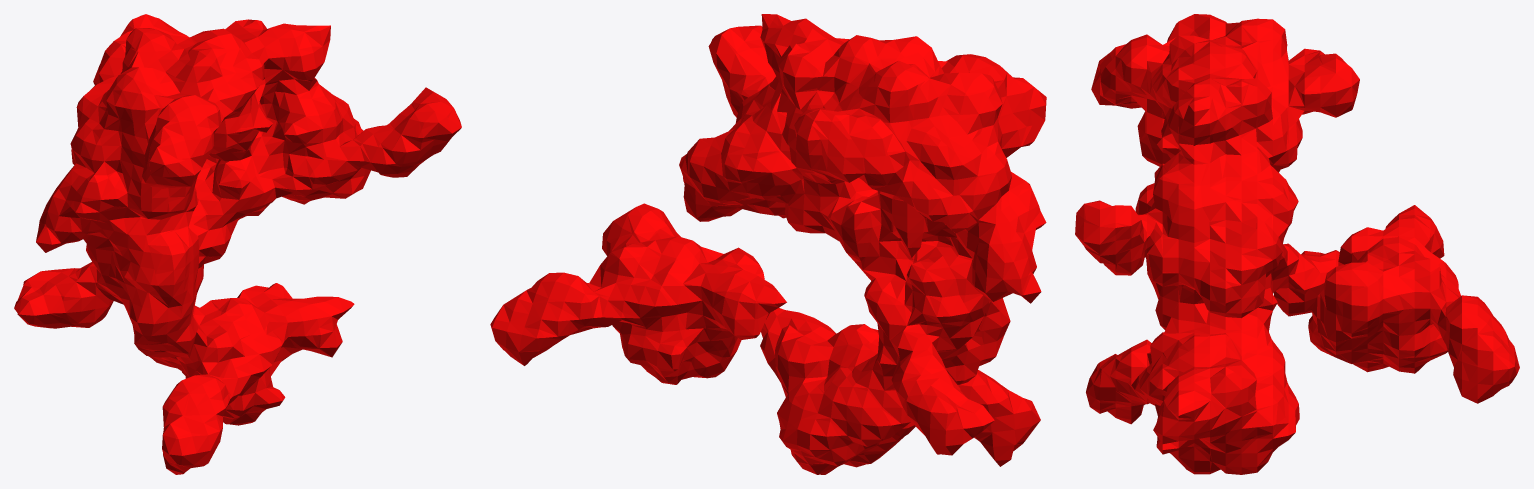
File: 78_kDa_glucose_regulated_prote_coarse.dae
3 renders of one model, left to right at view 1: azimuth 30°, elevation 25°; view 2: azimuth 150°, elevation 25°; view 3: azimuth 270°, elevation 25°, orthographic. The views are drawn at different scales.
Visible parts, largest first — view 1: 78_kDa_glucose_regulated_prote; view 2: 78_kDa_glucose_regulated_prote; view 3: 78_kDa_glucose_regulated_prote.
Part boxes in pixels (bbox=[...]): 78_kDa_glucose_regulated_prote: bbox=[14, 14, 461, 474]; 78_kDa_glucose_regulated_prote: bbox=[490, 14, 1046, 474]; 78_kDa_glucose_regulated_prote: bbox=[1075, 14, 1519, 474].
Bounding box in the file's own units: 182 × 183 × 176.
